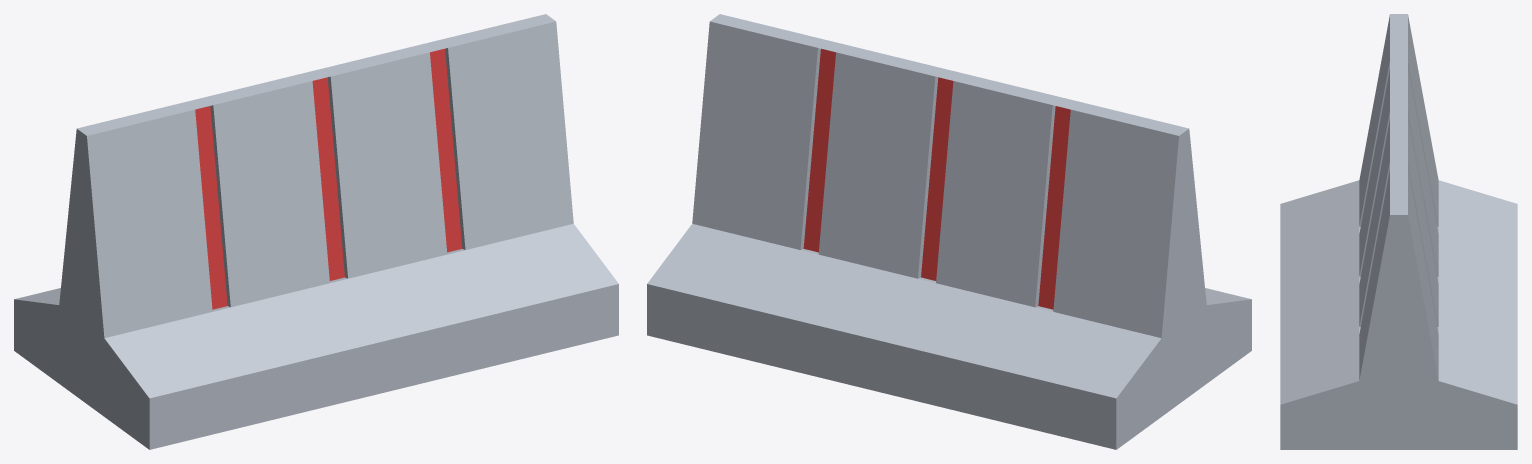
Rendered from road-block-type-A.fbx.
The picture shows the model from 3 angles, left to right: view 1: azimuth 30°, elevation 25°; view 2: azimuth 150°, elevation 25°; view 3: azimuth 270°, elevation 25°; orthographic projection. The views are drawn at different scales.
Visible parts, largest first — view 1: 1.5 road-block-type-A; view 2: 1.5 road-block-type-A; view 3: 1.5 road-block-type-A.
Boxes of the visible parts, x1=… form: 1.5 road-block-type-A: x1=14, y1=14, x2=618, y2=449; 1.5 road-block-type-A: x1=647, y1=14, x2=1251, y2=449; 1.5 road-block-type-A: x1=1280, y1=14, x2=1517, y2=449.
Bounding box in the file's own units: 2 × 1.09 × 1.
